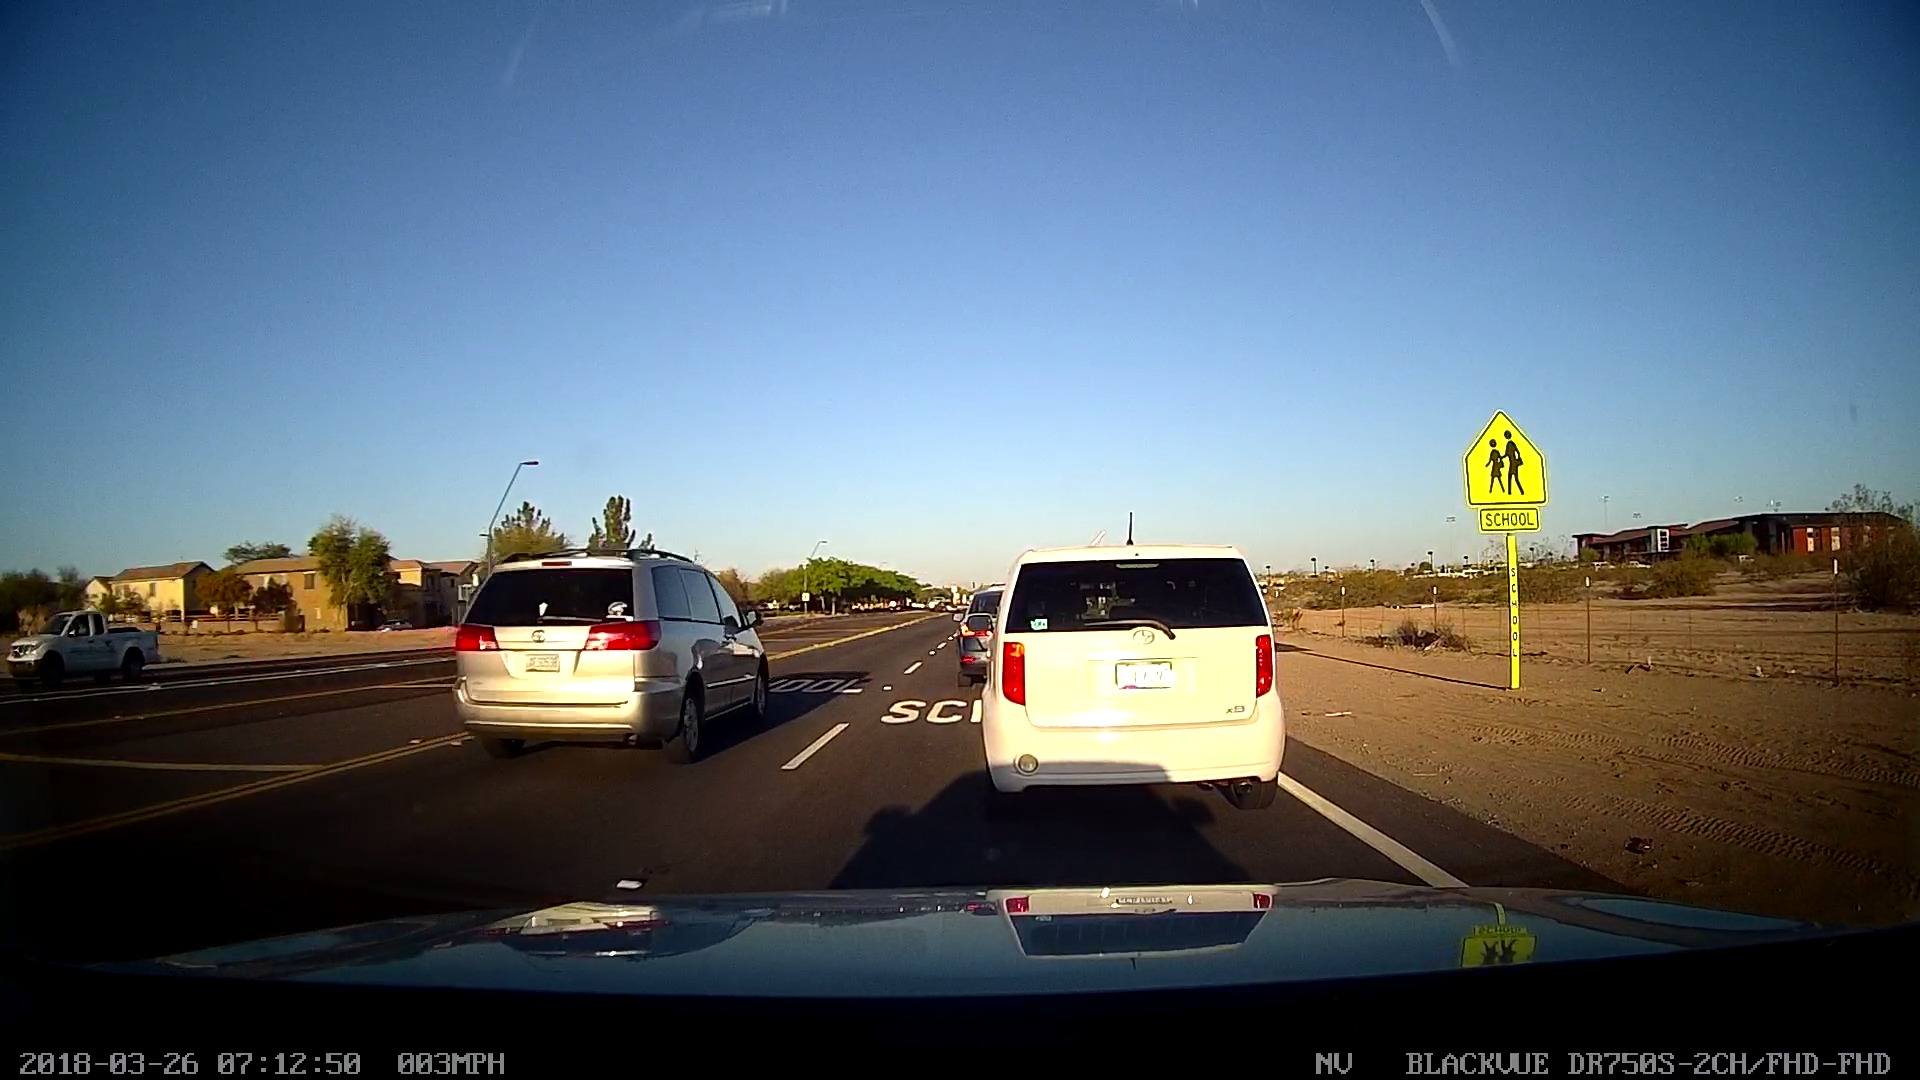plate: (1106, 651, 1186, 693), (512, 646, 573, 684)
vehicle: (977, 537, 1293, 812), (446, 545, 784, 759), (4, 601, 162, 695)
